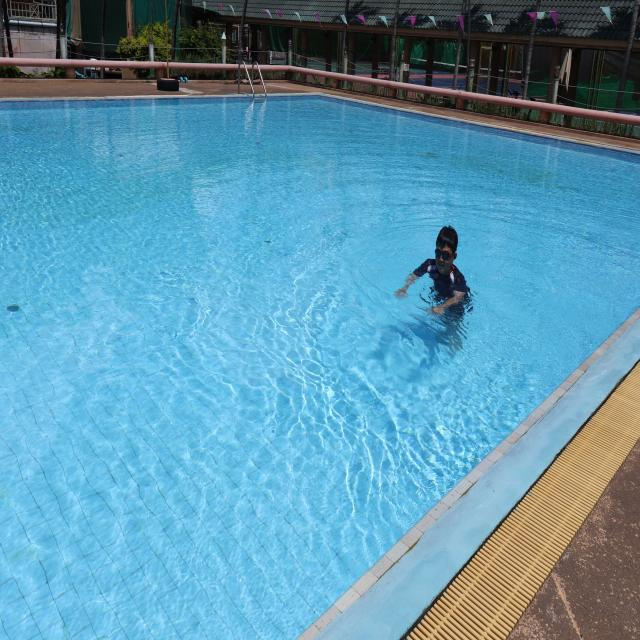Swimming: (394, 225, 470, 319)
